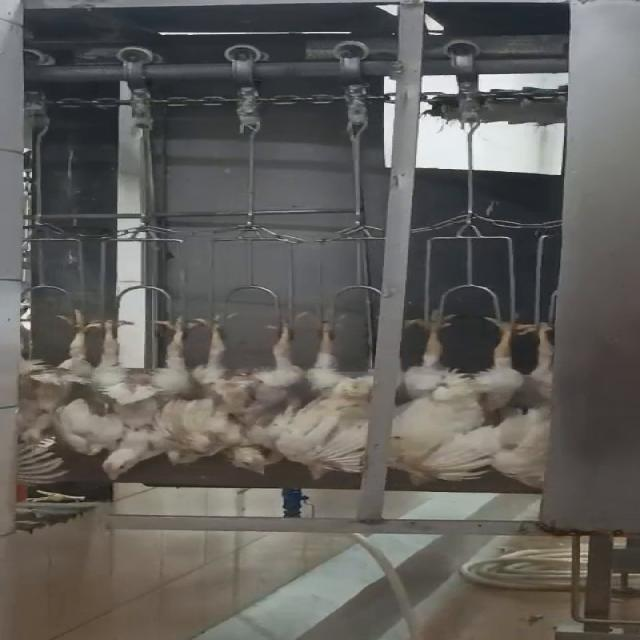chicken: (380, 310, 528, 489), (76, 313, 192, 485), (194, 316, 296, 476), (7, 309, 83, 481), (295, 313, 371, 483), (494, 313, 560, 501)
